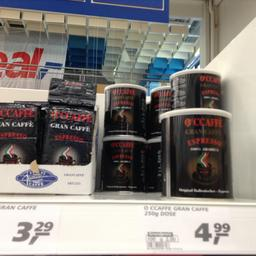coffee: (154, 104, 228, 197), (40, 104, 94, 163), (98, 134, 146, 191), (102, 81, 148, 134), (0, 102, 39, 162)
